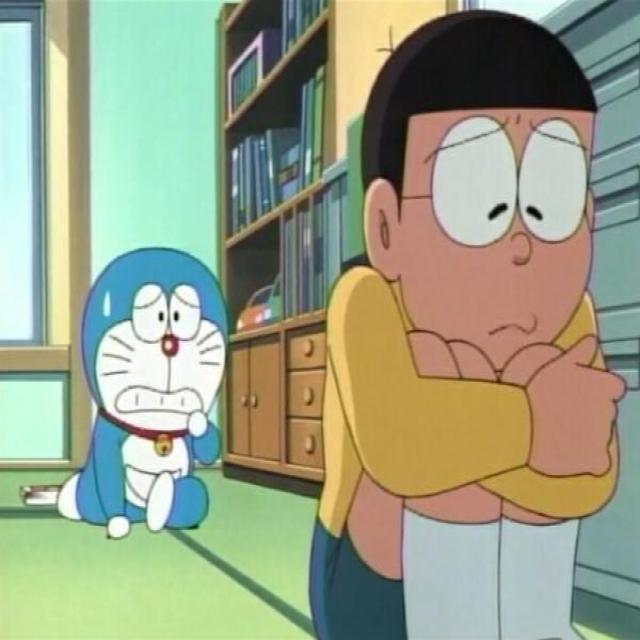doraemon: (74, 241, 234, 454)
nobita: (358, 14, 600, 372)
